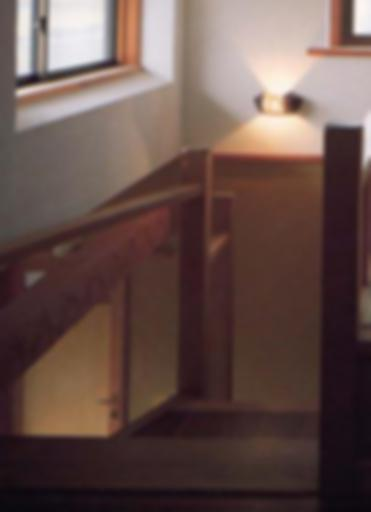Escaleras: (0, 217, 348, 503)
